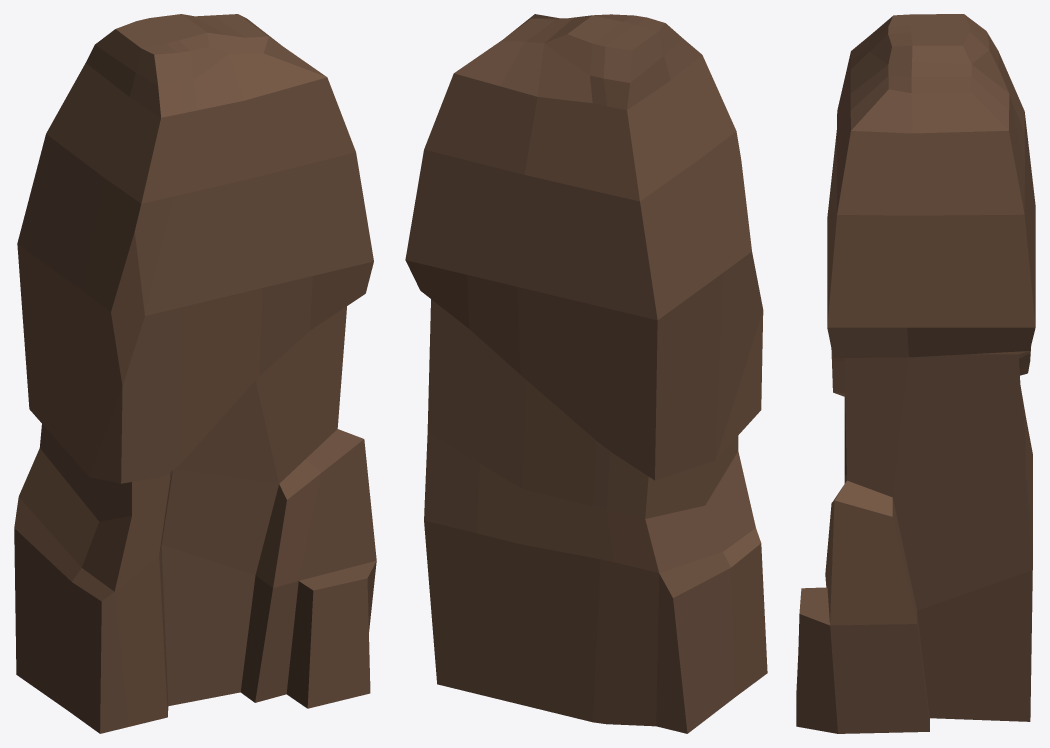
File: ST_Rock_A.fbx
3 views of the same model, side by side, from view 1: azimuth 30°, elevation 25°; view 2: azimuth 150°, elevation 25°; view 3: azimuth 270°, elevation 25° (orthographic). The views are drawn at different scales.
Parts seen in each view (by area): view 1: ST_Rock_A; view 2: ST_Rock_A; view 3: ST_Rock_A.
Part boxes in pixels (x1,y1,x2,y2): ST_Rock_A: (14,14,376,733); ST_Rock_A: (405,14,767,733); ST_Rock_A: (796,14,1035,733).
Bounding box in the file's own units: 362 × 825 × 284.
